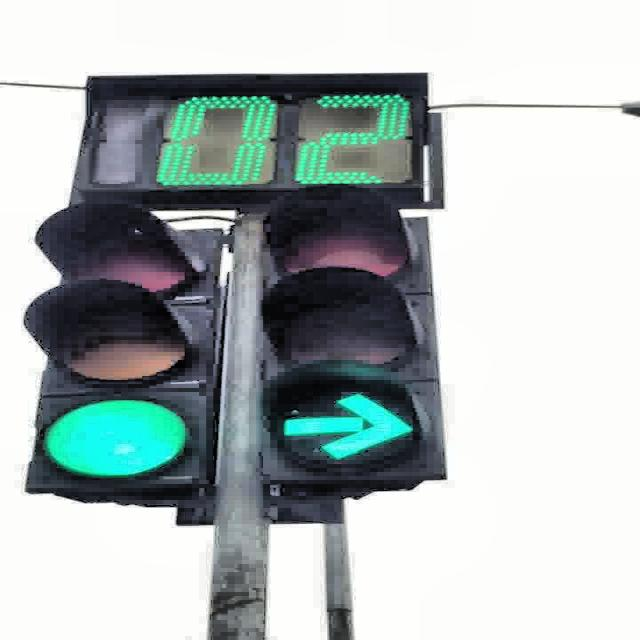green: (21, 200, 218, 493), (257, 184, 446, 484)
